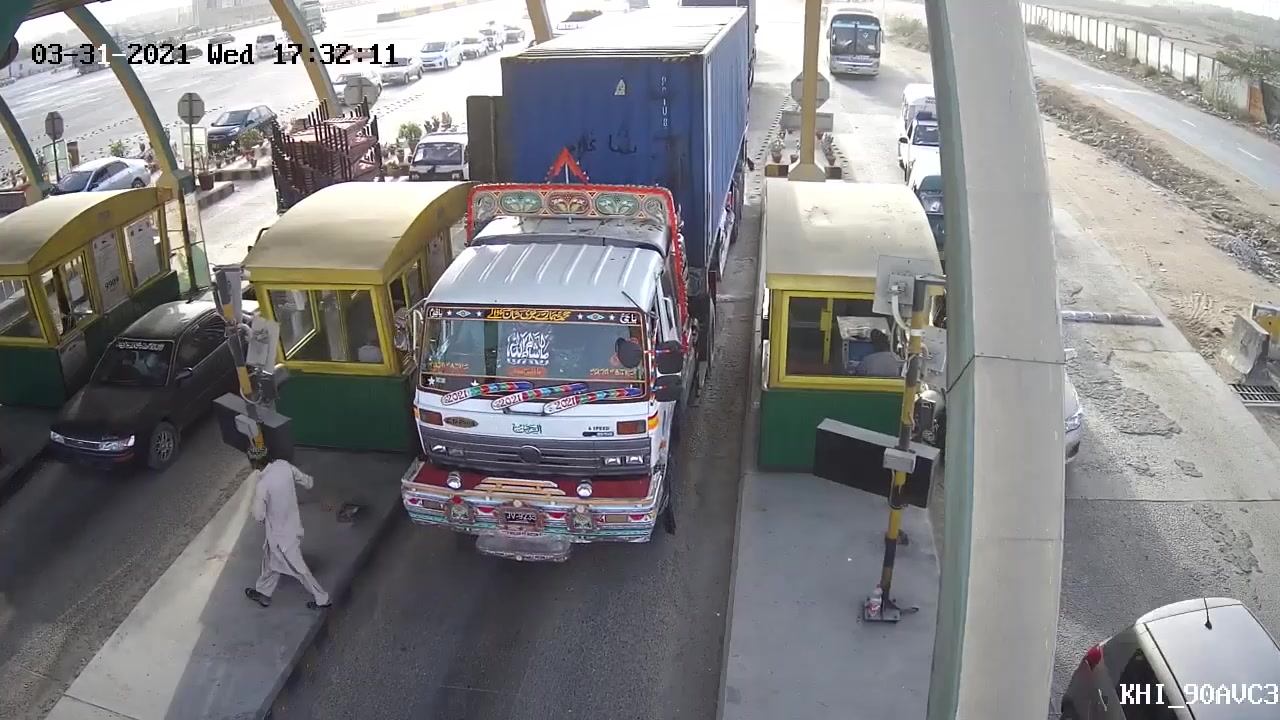F6: (400, 2, 767, 569)
